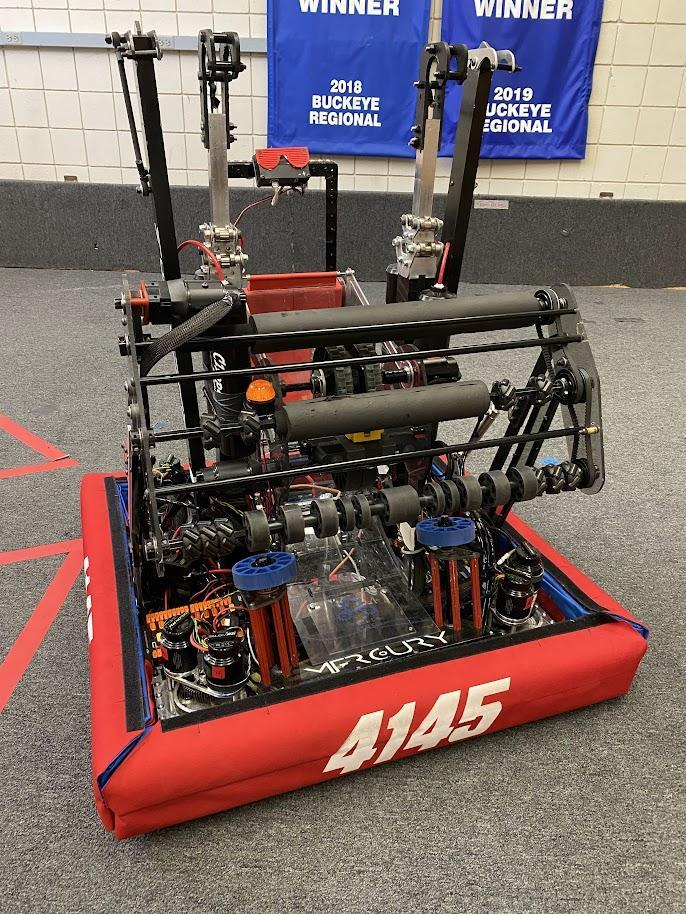robot: (62, 19, 658, 846)
